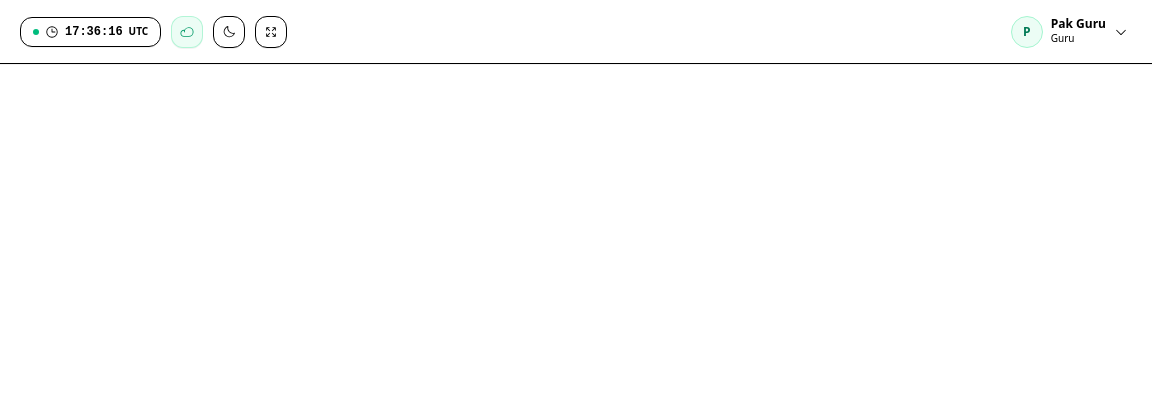
Test: Header Administrator UX & Navigation Affordance › shows warning advice when token claim is still not-admin on server
The image size is (1152, 409).
Click the button "P Pak Guru Guru" at (1069, 32), box [1007,12,1132,52]
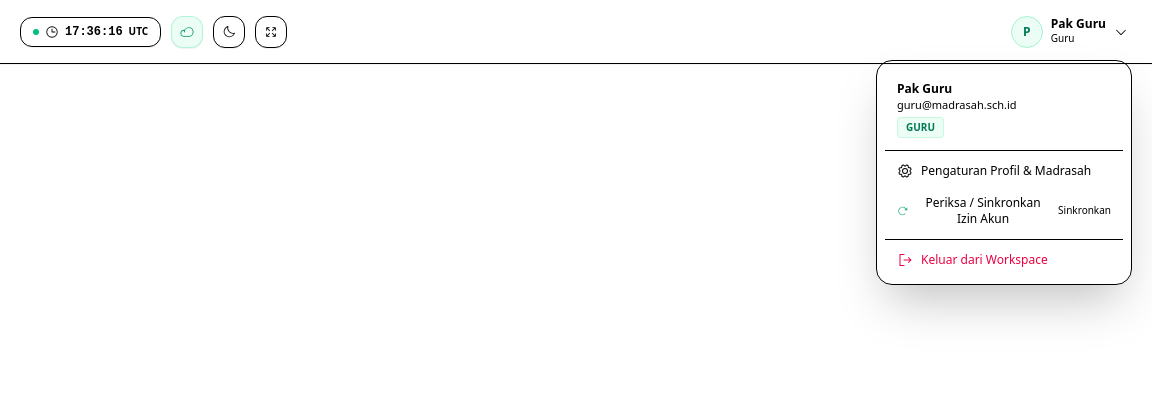
Click the button "Periksa / Sinkronkan Izin Akun Sinkronkan" at (1004, 211), box [885,187,1123,235]
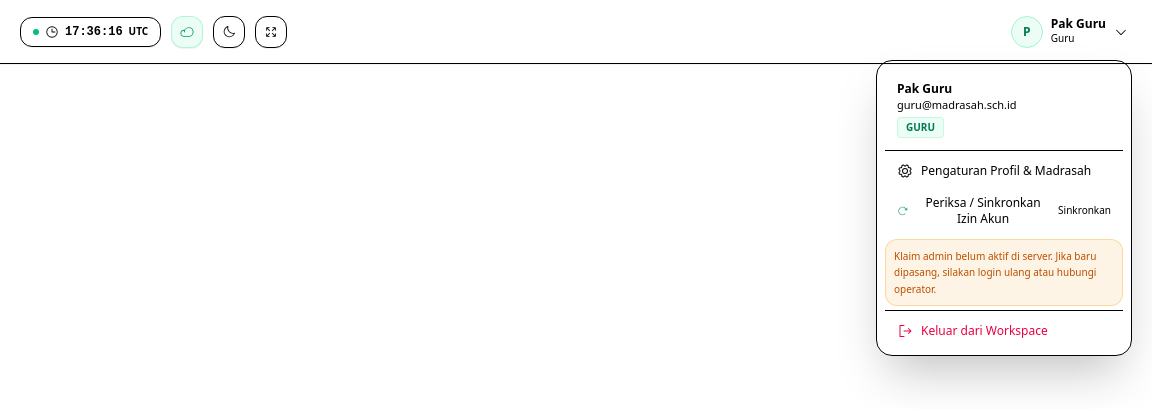
Expected: the text "Klaim admin belum aktif di server. Jika baru dipasang, silakan login ulang atau hubungi operator." is shown, [894,249,1096,296]
